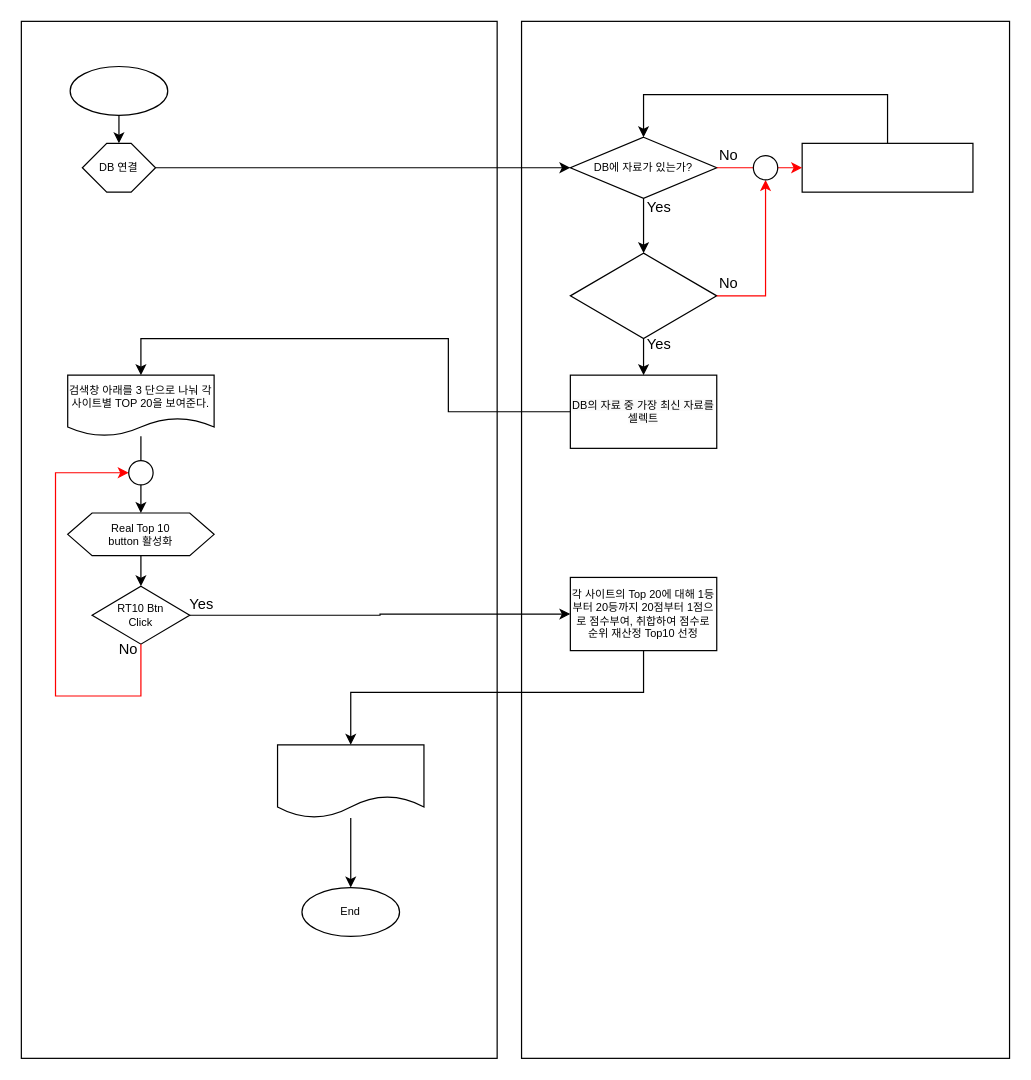
Image size: 1031x1080. Some labels were removed from this diagram. Here are the shapes that lost their labels. From the top down, the centre of each, then its label:
(x=118, y=90): Start
(x=887, y=167): 크롬 드라이버를 사용하여 각 사이트의 자료를 크롤링하여 DB에 넣는다
(x=643, y=295): 서버의 날짜와 마지막 업데이트 날짜가 같은가?
(x=350, y=781): 3단을 1단으로 변경하고 Real Top 10 리스트를 보여준다
